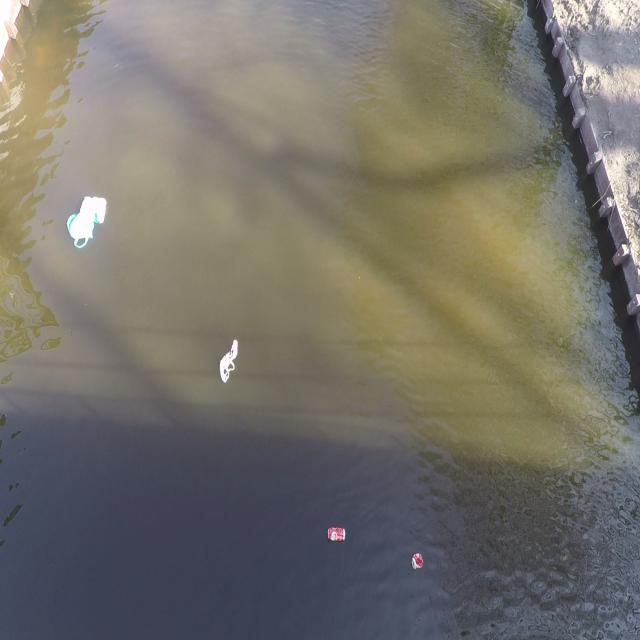Non plastique: (326, 525, 346, 544), (410, 553, 423, 573)
Sac plastique: (65, 192, 107, 250), (216, 337, 238, 383)
